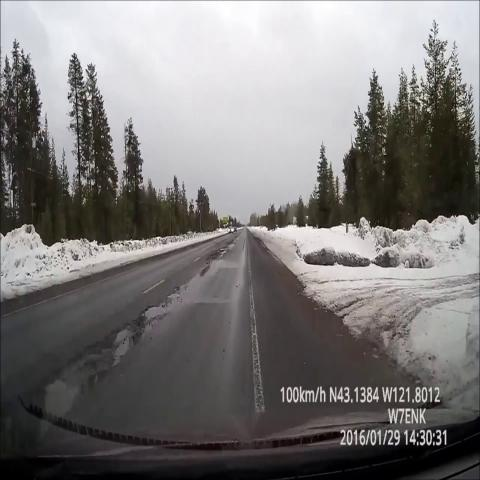pothole: (134, 278, 192, 340), (210, 231, 244, 268)
